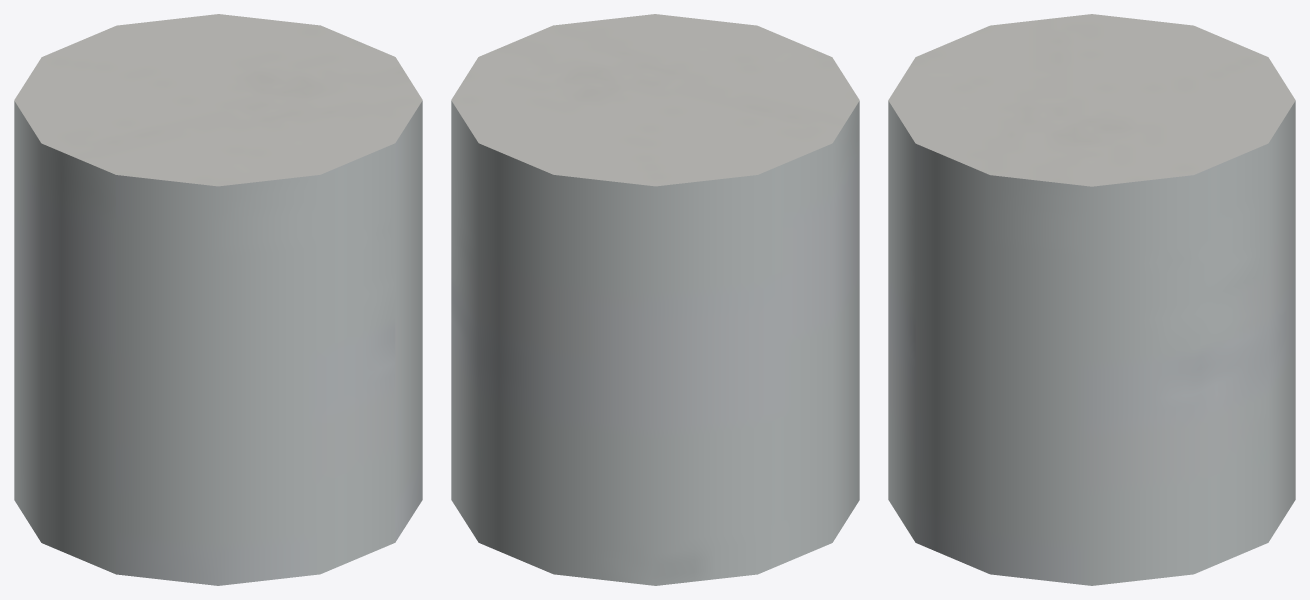
The model's file is SM_光谱仪_内部按扭.FBX.
3 views of the same model, side by side, from view 1: azimuth 30°, elevation 25°; view 2: azimuth 150°, elevation 25°; view 3: azimuth 270°, elevation 25° (orthographic).
Parts seen in each view (by area): view 1: SM_光谱仪_内部按扭; view 2: SM_光谱仪_内部按扭; view 3: SM_光谱仪_内部按扭.
Part boxes in pixels (x1,y1,x2,y2): SM_光谱仪_内部按扭: (14, 14, 422, 585); SM_光谱仪_内部按扭: (451, 14, 859, 585); SM_光谱仪_内部按扭: (888, 14, 1295, 585).
Size of the model in its own units: 0.00686 by 0.0074 by 0.00684.
